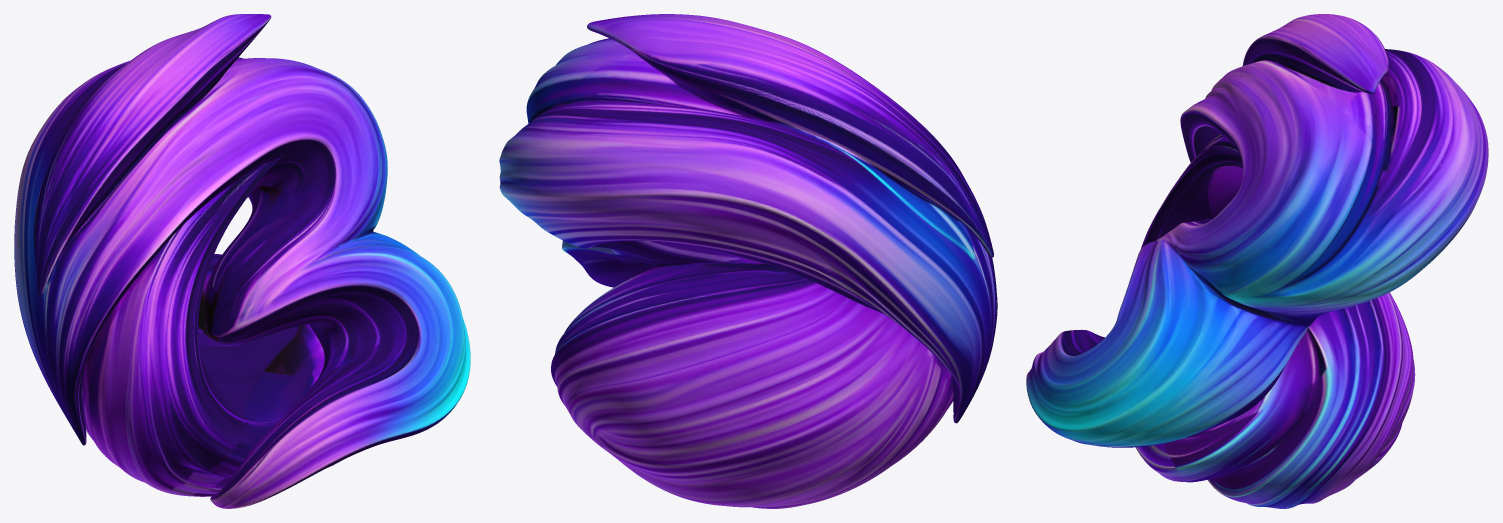
3 renders of one model, left to right at view 1: azimuth 30°, elevation 25°; view 2: azimuth 150°, elevation 25°; view 3: azimuth 270°, elevation 25°, orthographic. The views are drawn at different scales.
Size of the model in its own units: 1.78 by 1.9 by 1.74.
1 material, 1 textured.
